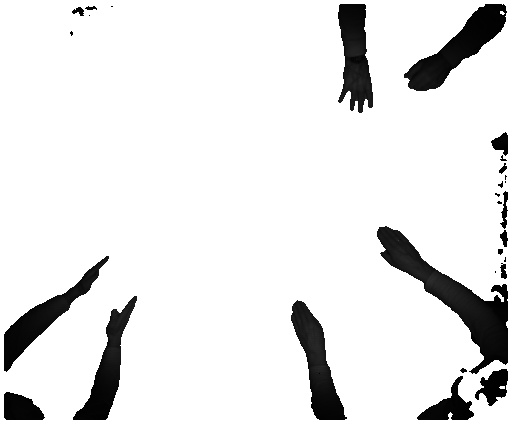fist: (401, 55, 449, 95)
hand: (376, 224, 428, 275), (288, 296, 327, 353), (336, 62, 375, 119)
spine: (107, 296, 143, 340), (74, 256, 111, 295)
